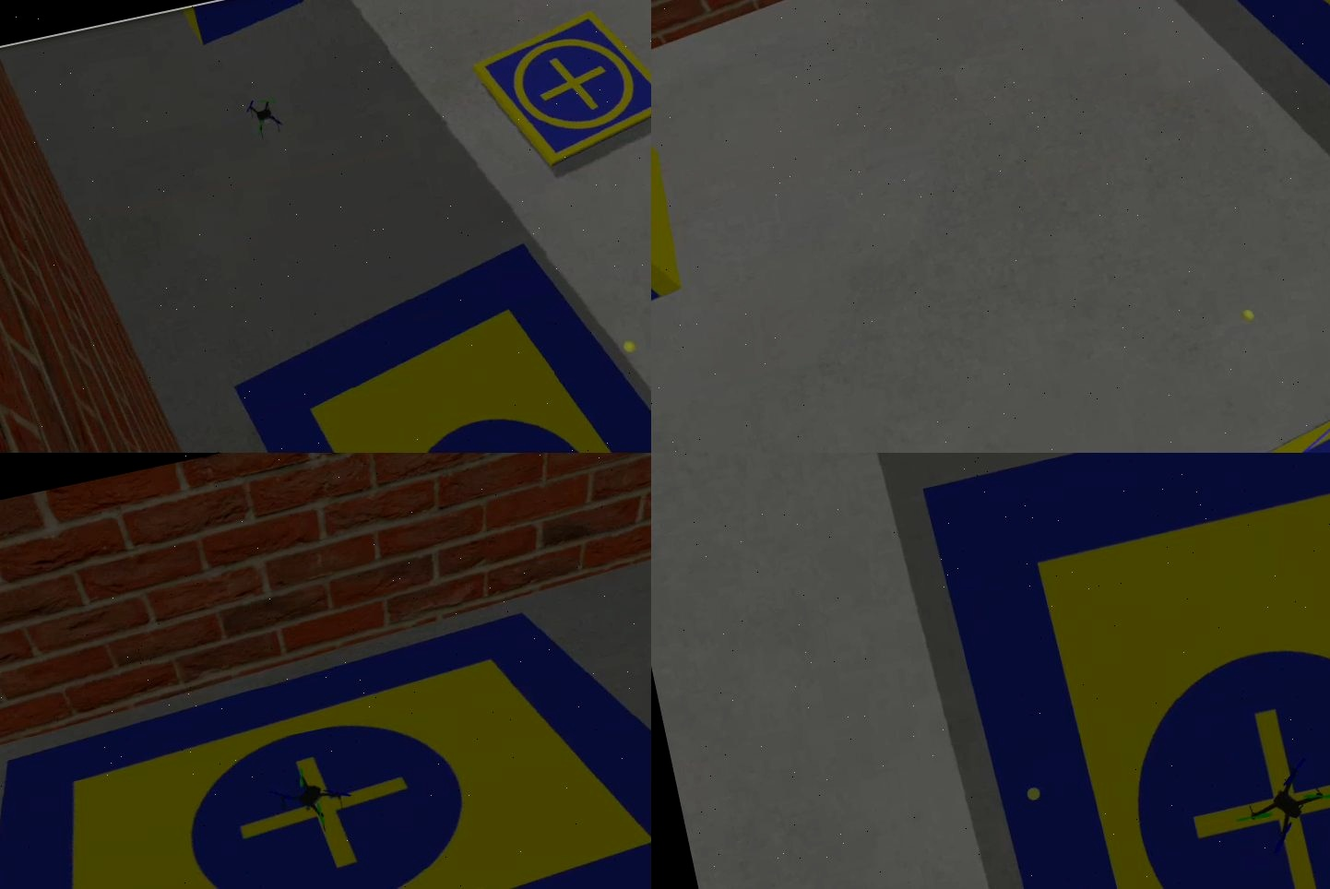large_base: (1, 556, 652, 889), (921, 454, 1330, 889), (215, 195, 652, 454), (1120, 1, 1330, 275)
small_base: (468, 1, 652, 178)
